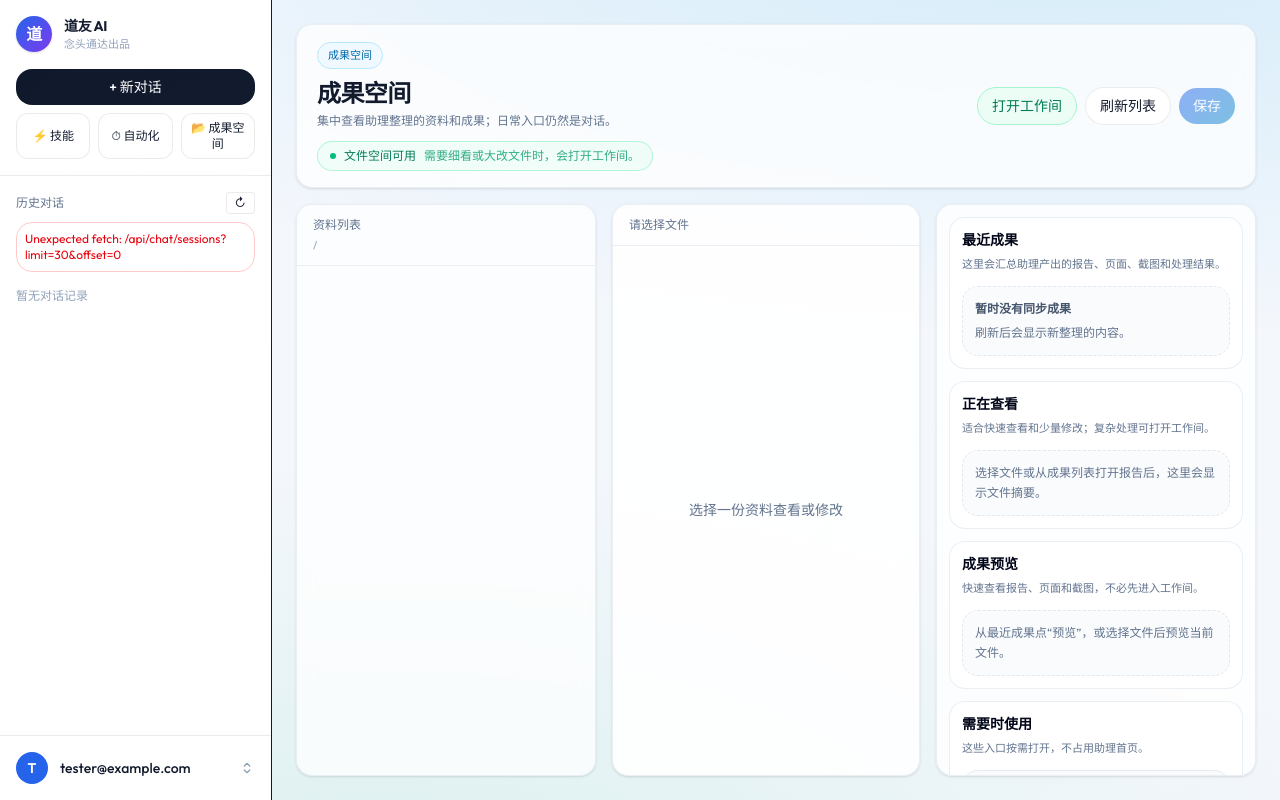
it: WorkspacePage › refreshes assistant deliverables when the file list is refreshed
Check: the text "暂时没有同步成果" is shown, box x1=975 y1=300 x2=1071 y2=316
What coordinates should you click on to do the following:
click the button "刷新列表"
I would click on:
 (1128, 106)
Its box is x1=1085 y1=87 x2=1171 y2=125.
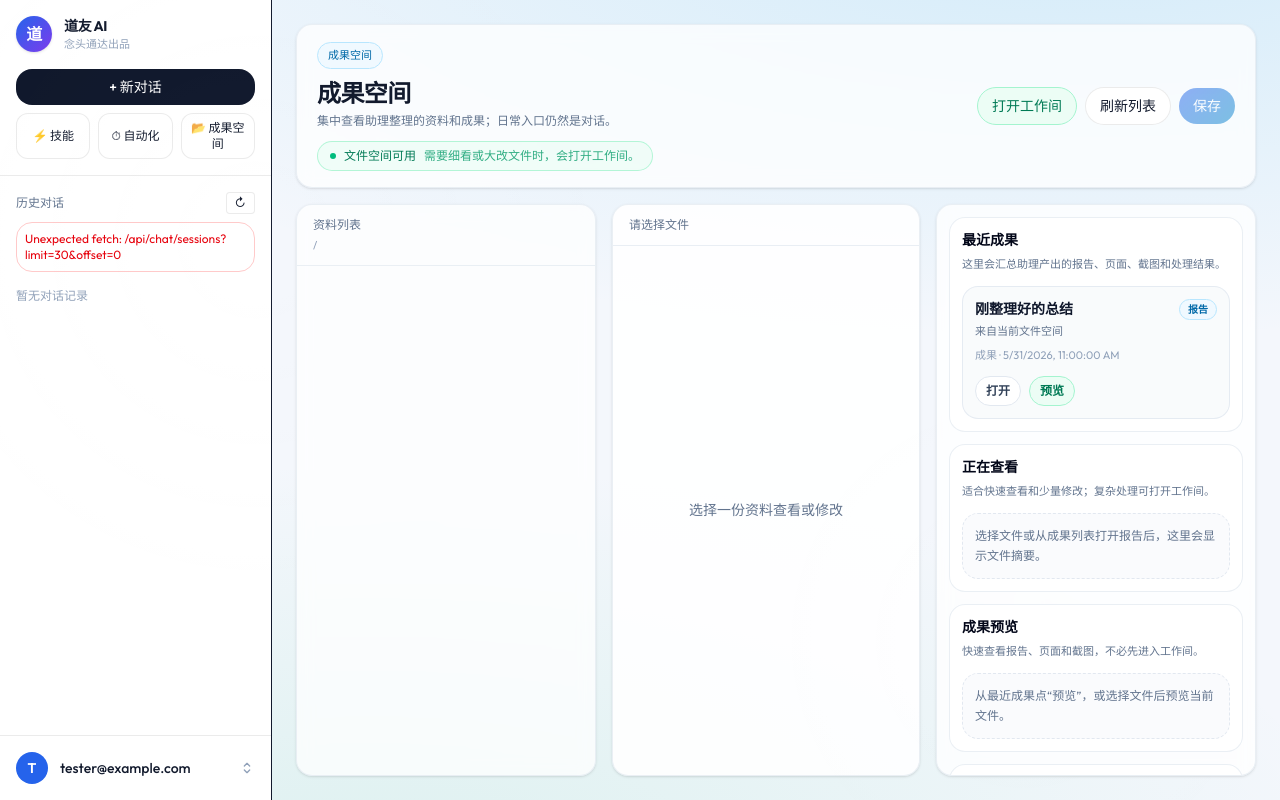
Check: the text "刚整理好的总结" is shown, box x1=975 y1=298 x2=1073 y2=318
